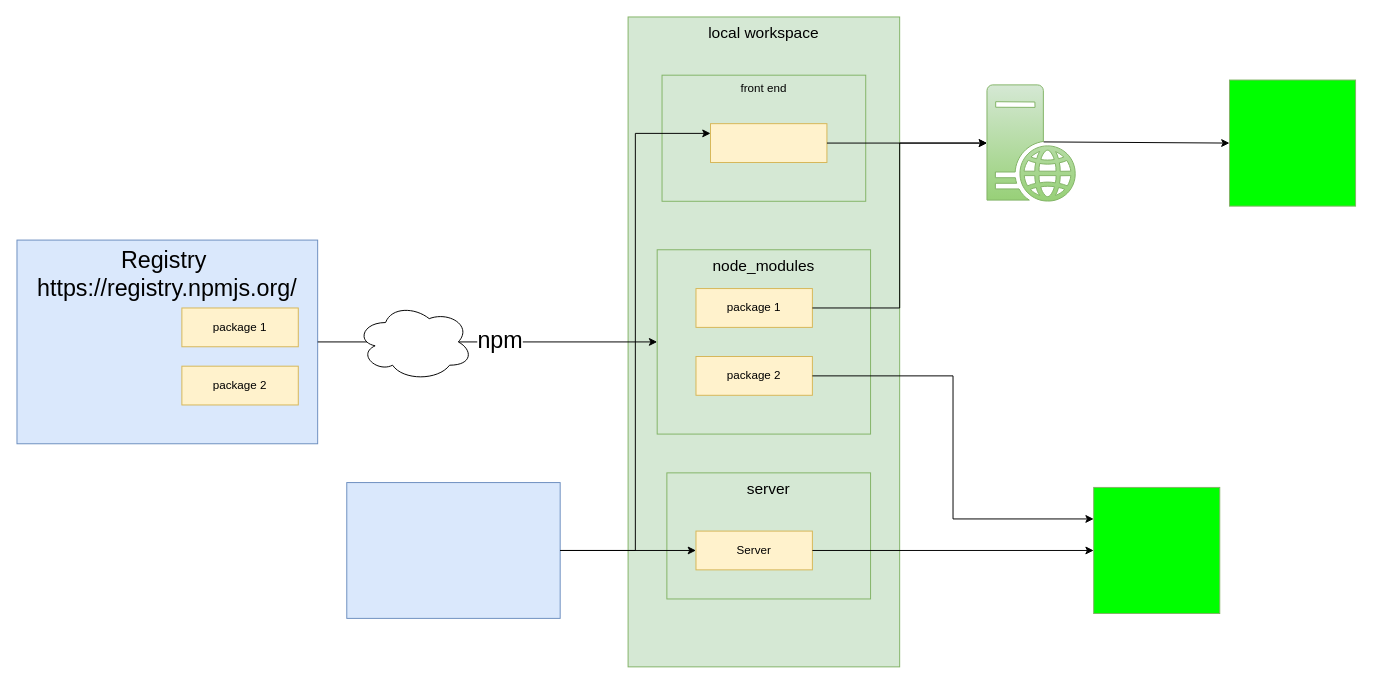
The diagram is 1373 pixels wide and 684 high, and some of its shapes have lost their labels. The centre of each missing label's shape, as x and y in pixels:
"Chrome" goes at point 1292,142.
"Client" goes at point 768,142.
"Editor Visual Studio Code" goes at point 453,550.
"Node.js" goes at point 1156,550.
